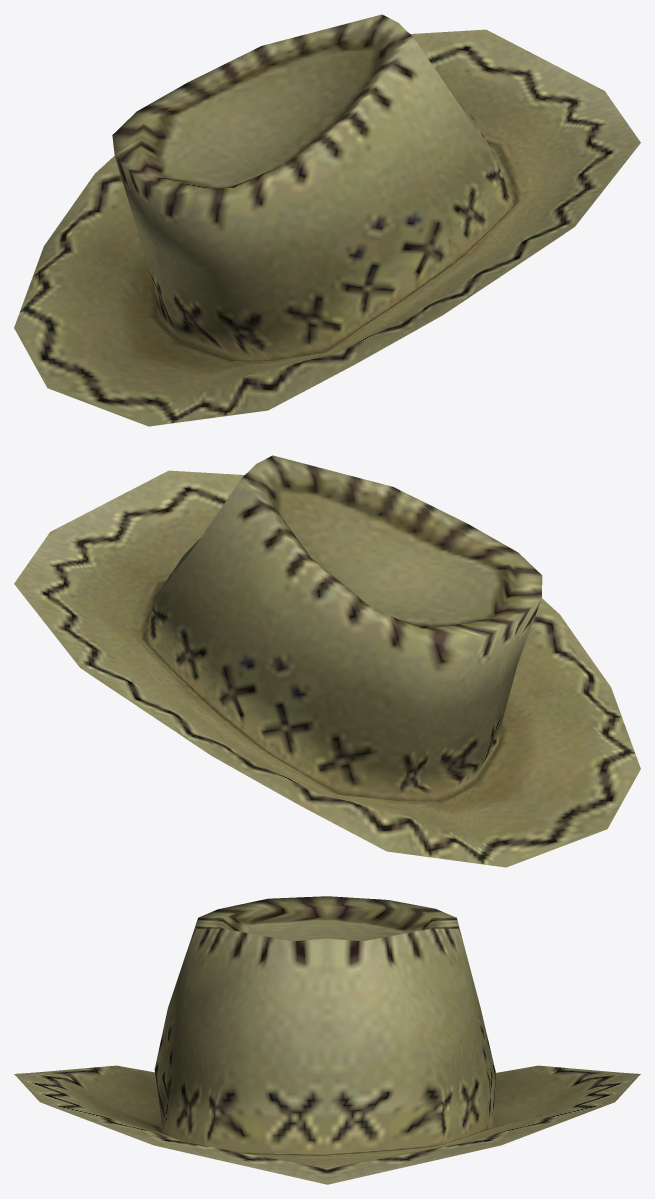
Rendered from hat_0400000.FBX.
3 renders of one model, top to bottom at view 1: azimuth 30°, elevation 25°; view 2: azimuth 150°, elevation 25°; view 3: azimuth 270°, elevation 25°, orthographic. The views are drawn at different scales.
Parts seen in each view (by area): view 1: hat_0400000; view 2: hat_0400000; view 3: hat_0400000.
Boxes of the visible parts, box(x1,y1,x2,y2) form: hat_0400000: box(14, 14, 640, 426); hat_0400000: box(14, 455, 640, 867); hat_0400000: box(14, 896, 640, 1184).
Bounding box in the file's own units: 51.41 × 24.65 × 44.6.
